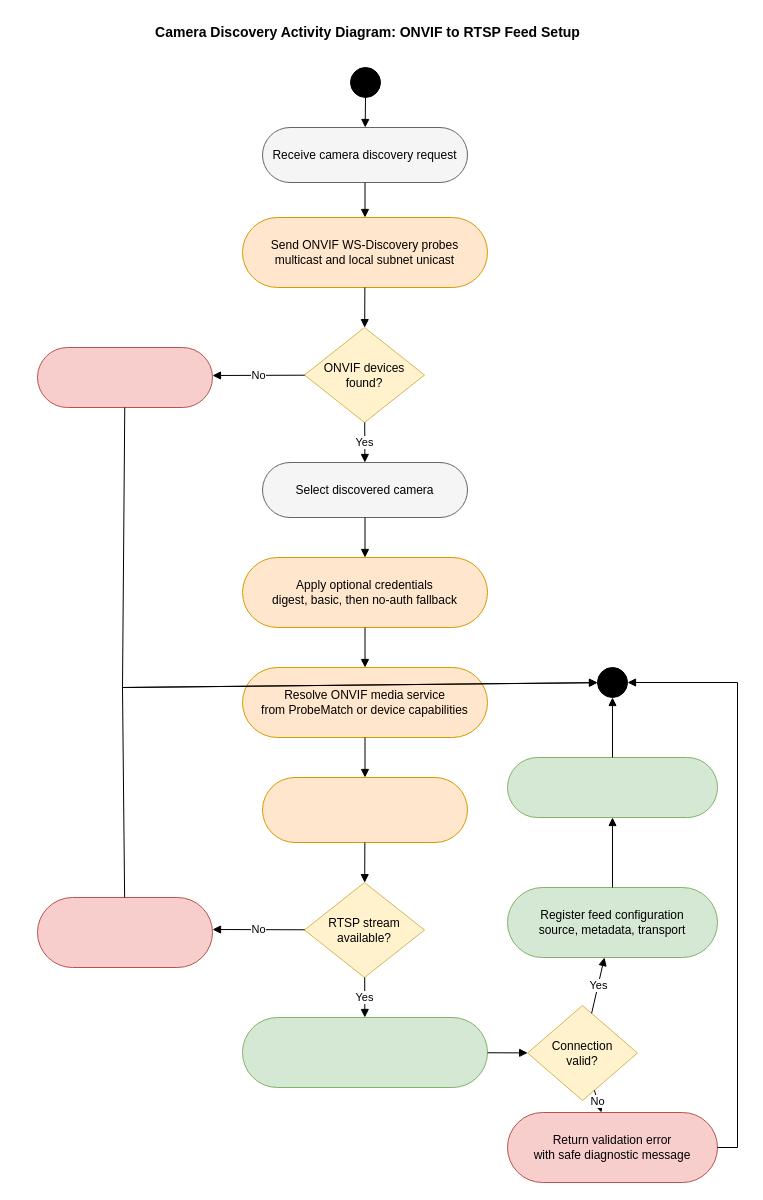
Image size: 763x1200. Some labels were removed from this diagram. The shapes that lost their labels are listed below. From the top down, each one's box as (x1, y1, x2, y2) in pixels, then its label:
(36, 346, 212, 408): Return empty discovery result
(506, 756, 718, 818): Capture snapshot for zone setup
(262, 776, 468, 842): Request RTSP stream URIs from media profiles
(36, 896, 212, 968): Report no usable stream and keep onboarding open
(242, 1016, 488, 1088): Validate selected RTSP stream OpenCV probe and first-frame read
